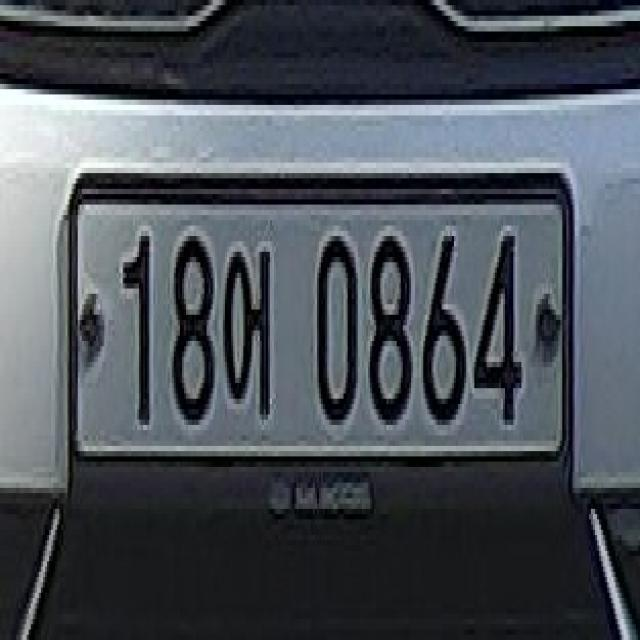0: (313, 225, 360, 436)
1: (114, 220, 158, 436)
4: (472, 220, 526, 436)
6: (419, 220, 470, 430)
8: (366, 220, 415, 430), (170, 231, 217, 430)
eo: (223, 242, 276, 436)
license_plate: (59, 168, 579, 535)
